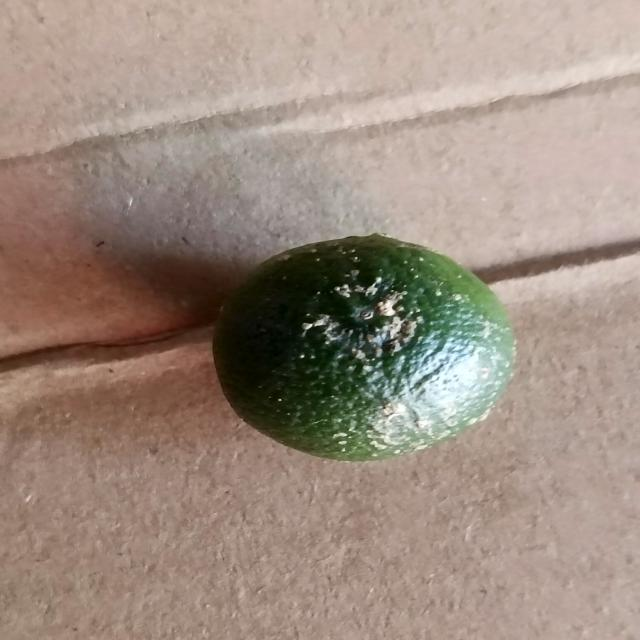scab: (214, 234, 529, 462)
